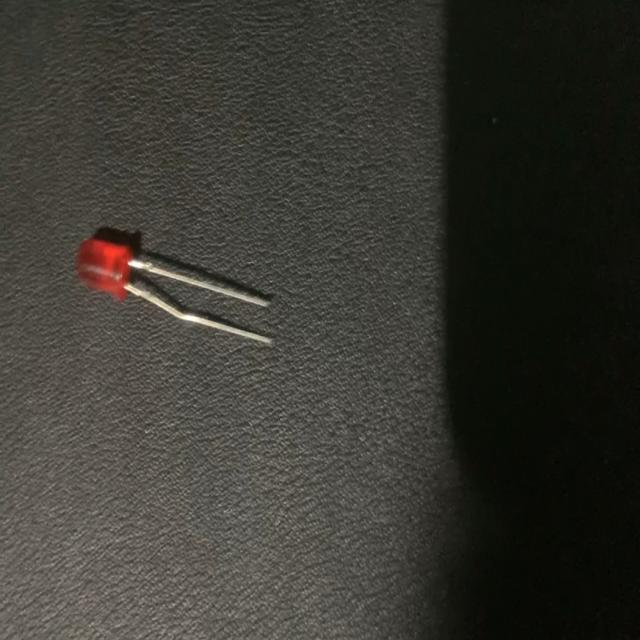LED: (75, 230, 273, 344)
